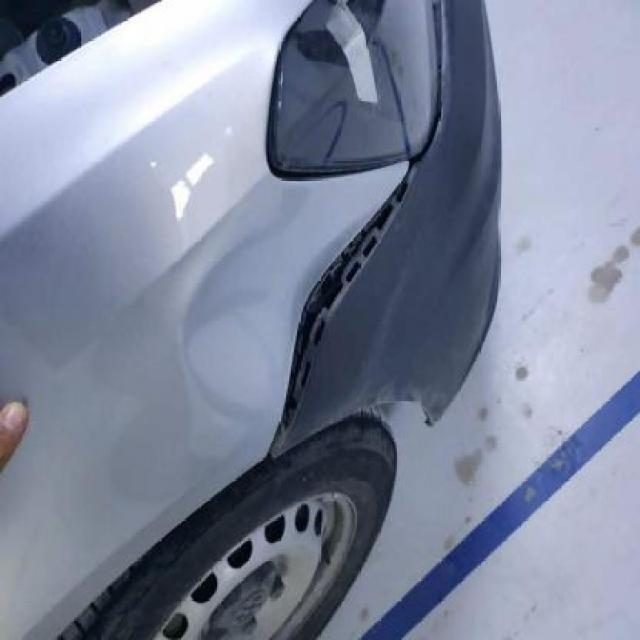Dent: (166, 164, 408, 442)
